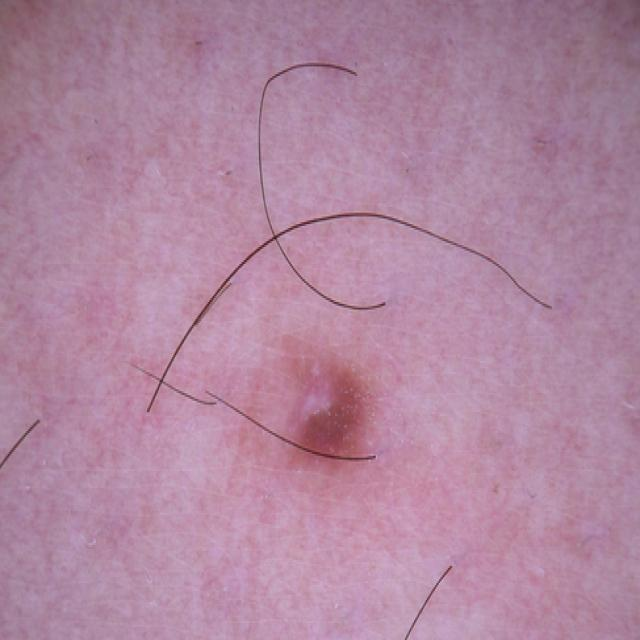Dermatofibroma: (242, 314, 398, 508)
